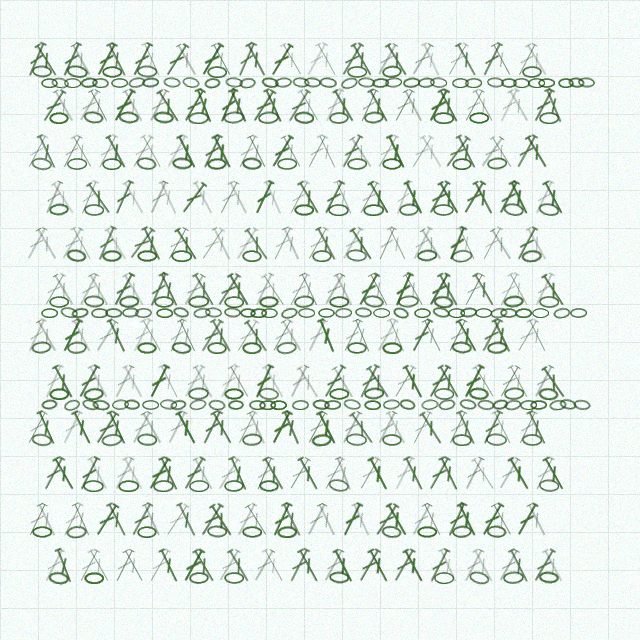chain: (468, 570, 490, 586), (66, 64, 88, 79), (538, 202, 560, 217), (83, 110, 104, 125), (136, 156, 157, 171), (503, 202, 524, 217), (66, 248, 87, 263), (363, 294, 384, 309), (328, 478, 349, 493), (451, 249, 473, 263), (101, 433, 123, 447), (31, 157, 52, 171), (521, 249, 542, 263), (433, 295, 454, 309), (171, 341, 192, 355), (276, 341, 297, 355), (83, 387, 104, 401), (258, 387, 279, 401), (538, 387, 559, 401), (31, 433, 52, 447), (311, 433, 332, 447), (66, 525, 87, 539), (381, 525, 402, 539), (48, 571, 69, 585), (223, 111, 245, 124), (118, 111, 139, 124), (153, 111, 174, 124), (258, 111, 279, 124), (346, 249, 367, 262), (188, 295, 209, 308), (398, 295, 419, 308), (503, 295, 524, 308), (31, 341, 52, 354), (451, 341, 472, 354), (188, 387, 209, 400), (468, 387, 489, 400), (346, 433, 367, 446), (486, 433, 507, 446), (486, 525, 507, 538), (503, 571, 524, 584), (538, 571, 559, 584), (340, 76, 359, 90), (280, 306, 299, 320), (81, 398, 100, 412), (32, 65, 52, 78), (137, 65, 157, 78), (382, 65, 402, 78), (294, 111, 314, 124), (364, 111, 384, 124), (172, 157, 192, 170), (242, 157, 262, 170), (487, 157, 507, 170), (49, 203, 69, 216), (399, 203, 419, 216), (417, 249, 437, 262), (84, 295, 104, 308), (119, 295, 139, 308), (294, 295, 314, 308), (67, 341, 87, 354), (487, 341, 507, 354), (364, 387, 384, 400), (504, 387, 524, 400), (137, 433, 157, 446), (242, 433, 262, 446), (539, 479, 559, 492), (207, 525, 227, 538), (452, 525, 472, 538), (329, 571, 349, 584), (188, 112, 209, 124), (433, 112, 454, 124), (328, 204, 349, 216), (363, 204, 384, 216), (433, 204, 454, 216), (171, 250, 192, 262), (392, 306, 410, 320), (63, 398, 81, 412), (83, 480, 104, 492), (118, 480, 139, 492), (153, 480, 174, 492), (102, 66, 122, 78), (207, 66, 227, 78), (347, 66, 367, 78), (522, 66, 542, 78), (49, 112, 69, 124), (329, 112, 349, 124), (469, 112, 489, 124), (539, 112, 559, 124), (67, 158, 87, 170), (102, 158, 122, 170), (207, 158, 227, 170), (277, 158, 297, 170), (347, 158, 367, 170), (382, 158, 402, 170), (452, 158, 472, 170), (84, 204, 104, 216), (294, 204, 314, 216), (102, 250, 122, 262), (137, 250, 157, 262), (242, 250, 262, 262), (312, 250, 332, 262), (49, 296, 69, 308), (154, 296, 174, 308), (224, 296, 244, 308), (259, 296, 279, 308), (329, 296, 349, 308), (539, 296, 559, 308), (137, 342, 157, 354), (207, 342, 227, 354), (242, 342, 262, 354), (347, 342, 367, 354), (382, 342, 402, 354), (49, 388, 69, 400), (224, 388, 244, 400), (329, 388, 349, 400), (434, 388, 454, 400), (382, 434, 402, 446), (452, 434, 472, 446), (522, 434, 542, 446), (189, 480, 209, 492), (224, 480, 244, 492), (259, 480, 279, 492), (32, 526, 52, 538), (137, 526, 157, 538), (242, 526, 262, 538), (277, 526, 297, 538), (417, 526, 437, 538), (84, 572, 104, 584), (189, 572, 209, 584), (224, 572, 244, 584), (434, 572, 454, 584), (128, 76, 146, 89), (182, 76, 200, 89), (261, 76, 279, 89), (60, 306, 78, 319), (172, 306, 190, 319), (432, 306, 450, 319), (189, 398, 207, 411), (343, 398, 361, 411), (438, 398, 456, 411), (459, 398, 477, 411), (559, 398, 577, 411), (399, 398, 416, 411), (492, 398, 509, 411), (51, 77, 69, 89), (71, 307, 89, 319), (193, 307, 211, 319), (490, 307, 508, 319), (553, 307, 571, 319), (92, 399, 110, 411), (208, 399, 226, 411), (477, 399, 495, 411), (504, 399, 522, 411), (549, 399, 567, 411), (573, 399, 591, 411), (204, 77, 221, 89), (239, 77, 256, 89), (170, 399, 187, 411), (80, 77, 98, 88), (163, 77, 181, 88), (225, 77, 243, 88), (292, 77, 310, 88), (319, 77, 337, 88), (312, 399, 330, 410), (421, 399, 439, 410), (142, 77, 159, 88), (275, 77, 292, 88), (304, 77, 321, 88), (358, 77, 375, 88), (385, 77, 402, 88), (403, 77, 420, 88), (418, 77, 435, 88), (430, 77, 447, 88), (487, 77, 504, 88), (568, 77, 585, 88), (578, 77, 595, 88), (122, 307, 139, 318), (205, 307, 222, 318), (224, 307, 241, 318), (355, 307, 372, 318), (460, 307, 477, 318), (41, 399, 58, 410), (112, 399, 129, 410), (160, 399, 177, 410), (383, 399, 400, 410), (124, 399, 140, 410), (41, 78, 58, 88), (64, 78, 81, 88), (92, 78, 109, 88), (111, 78, 128, 88), (372, 78, 389, 88), (452, 78, 469, 88), (465, 78, 482, 88), (513, 78, 530, 88), (528, 78, 545, 88), (538, 78, 555, 88), (41, 308, 58, 318), (91, 308, 108, 318), (105, 308, 122, 318), (135, 308, 152, 318), (156, 308, 173, 318), (250, 308, 267, 318), (261, 308, 278, 318), (298, 308, 315, 318), (318, 308, 335, 318), (335, 308, 352, 318), (373, 308, 390, 318), (414, 308, 431, 318), (448, 308, 465, 318), (475, 308, 492, 318), (500, 308, 517, 318), (515, 308, 532, 318), (532, 308, 549, 318), (570, 308, 587, 318), (142, 400, 159, 410), (249, 400, 266, 410), (259, 400, 276, 410), (270, 400, 287, 410), (292, 400, 309, 410), (324, 400, 341, 410), (364, 400, 381, 410), (520, 400, 537, 410), (530, 400, 547, 410), (501, 78, 517, 88), (558, 78, 574, 88), (240, 308, 256, 318), (228, 400, 244, 410)
double: (178, 180, 209, 216), (126, 226, 157, 261), (442, 134, 472, 170), (477, 134, 507, 170), (84, 180, 114, 216), (197, 226, 227, 262), (242, 226, 272, 262), (539, 364, 569, 400), (347, 410, 377, 446), (32, 42, 61, 78), (162, 42, 191, 78), (267, 42, 296, 78), (39, 88, 68, 124), (154, 88, 183, 124), (249, 88, 278, 124), (284, 88, 313, 124), (347, 134, 376, 170), (407, 134, 436, 170), (487, 134, 516, 170), (49, 180, 78, 216), (102, 226, 131, 262), (172, 226, 201, 262), (232, 226, 261, 262), (347, 226, 376, 262), (417, 226, 446, 262), (487, 226, 516, 262), (214, 272, 243, 308), (259, 272, 288, 308), (539, 272, 568, 308), (92, 318, 121, 354), (197, 318, 226, 354), (232, 318, 261, 354), (242, 318, 271, 354), (294, 364, 323, 400), (329, 364, 358, 400), (364, 364, 393, 400), (92, 410, 121, 446), (417, 410, 446, 446), (214, 456, 243, 492), (469, 456, 498, 492), (92, 502, 121, 538), (162, 502, 191, 538), (197, 502, 226, 538), (207, 502, 236, 538), (242, 502, 271, 538), (372, 502, 401, 538), (173, 41, 201, 78), (198, 41, 226, 78), (278, 41, 306, 78), (338, 41, 366, 78), (348, 41, 376, 78), (373, 41, 401, 78), (383, 41, 411, 78), (408, 41, 436, 78), (443, 41, 471, 78), (523, 41, 551, 78), (50, 87, 78, 124), (75, 87, 103, 124), (110, 87, 138, 124), (180, 87, 208, 124), (295, 87, 323, 124), (330, 87, 358, 124), (505, 87, 533, 124), (68, 133, 96, 170), (128, 133, 156, 170), (268, 133, 296, 170), (373, 133, 401, 170), (418, 133, 446, 170), (523, 133, 551, 170), (120, 179, 148, 216), (295, 179, 323, 216), (365, 179, 393, 216), (425, 179, 453, 216), (435, 179, 463, 216), (460, 179, 488, 216), (33, 225, 61, 262), (58, 225, 86, 262), (163, 225, 191, 262), (303, 225, 331, 262), (338, 225, 366, 262), (523, 225, 551, 262), (40, 271, 68, 308), (50, 271, 78, 308), (85, 271, 113, 308), (120, 271, 148, 308), (190, 271, 218, 308), (225, 271, 253, 308), (320, 271, 348, 308), (425, 271, 453, 308), (470, 271, 498, 308), (33, 317, 61, 354), (278, 317, 306, 354), (373, 317, 401, 354), (453, 317, 481, 354), (513, 317, 541, 354), (180, 363, 208, 400), (225, 363, 253, 400), (260, 363, 288, 400), (320, 363, 348, 400), (390, 363, 418, 400), (425, 363, 453, 400), (435, 363, 463, 400), (470, 363, 498, 400), (495, 363, 523, 400), (138, 409, 166, 446), (208, 409, 236, 446), (50, 455, 78, 492), (145, 455, 173, 492), (180, 455, 208, 492), (260, 455, 288, 492), (285, 455, 313, 492), (355, 455, 383, 492), (425, 455, 453, 492), (495, 455, 523, 492), (505, 455, 533, 492), (540, 455, 568, 492), (383, 501, 411, 538), (478, 501, 506, 538), (488, 501, 516, 538), (513, 501, 541, 538), (85, 547, 113, 584), (145, 547, 173, 584), (190, 547, 218, 584), (215, 547, 243, 584), (225, 547, 253, 584), (250, 547, 278, 584), (355, 547, 383, 584), (390, 547, 418, 584), (530, 547, 558, 584), (180, 272, 208, 308), (68, 41, 95, 78), (93, 41, 120, 78), (208, 41, 235, 78), (243, 41, 270, 78), (303, 41, 330, 78), (313, 41, 340, 78), (453, 41, 480, 78), (488, 41, 515, 78), (513, 41, 540, 78), (85, 87, 112, 124), (120, 87, 147, 124), (145, 87, 172, 124), (365, 87, 392, 124), (390, 87, 417, 124), (400, 87, 427, 124), (425, 87, 452, 124), (435, 87, 462, 124), (460, 87, 487, 124), (470, 87, 497, 124), (530, 87, 557, 124), (23, 133, 50, 170), (58, 133, 85, 170), (103, 133, 130, 170), (138, 133, 165, 170), (163, 133, 190, 170), (278, 133, 305, 170), (303, 133, 330, 170), (338, 133, 365, 170), (453, 133, 480, 170), (513, 133, 540, 170), (190, 179, 217, 216), (215, 179, 242, 216), (225, 179, 252, 216), (285, 179, 312, 216), (320, 179, 347, 216), (355, 179, 382, 216), (470, 179, 497, 216), (495, 179, 522, 216), (540, 179, 567, 216), (23, 225, 50, 262), (68, 225, 95, 262), (313, 225, 340, 262), (478, 225, 505, 262), (513, 225, 540, 262), (75, 271, 102, 308), (110, 271, 137, 308), (285, 271, 312, 308), (355, 271, 382, 308), (365, 271, 392, 308), (400, 271, 427, 308), (435, 271, 462, 308), (460, 271, 487, 308), (495, 271, 522, 308), (505, 271, 532, 308), (138, 317, 165, 354), (208, 317, 235, 354), (268, 317, 295, 354), (408, 317, 435, 354), (478, 317, 505, 354), (50, 363, 77, 400), (75, 363, 102, 400), (85, 363, 112, 400), (120, 363, 147, 400), (190, 363, 217, 400), (400, 363, 427, 400), (460, 363, 487, 400), (505, 363, 532, 400), (530, 363, 557, 400), (23, 409, 50, 446), (128, 409, 155, 446), (173, 409, 200, 446), (233, 409, 260, 446), (268, 409, 295, 446), (303, 409, 330, 446), (338, 409, 365, 446), (383, 409, 410, 446), (408, 409, 435, 446), (40, 455, 67, 492), (85, 455, 112, 492), (120, 455, 147, 492), (190, 455, 217, 492), (295, 455, 322, 492), (320, 455, 347, 492), (365, 455, 392, 492), (128, 501, 155, 538), (233, 501, 260, 538), (303, 501, 330, 538), (408, 501, 435, 538), (75, 547, 102, 584), (120, 547, 147, 584), (180, 547, 207, 584), (260, 547, 287, 584), (295, 547, 322, 584), (320, 547, 347, 584), (330, 547, 357, 584), (365, 547, 392, 584), (400, 547, 427, 584), (460, 547, 487, 584), (470, 547, 497, 584), (495, 547, 522, 584), (540, 547, 567, 584), (104, 41, 130, 78), (129, 41, 155, 78), (479, 41, 505, 78), (321, 87, 347, 124), (496, 87, 522, 124), (34, 133, 60, 170), (94, 133, 120, 170), (174, 133, 200, 170), (199, 133, 225, 170), (209, 133, 235, 170), (234, 133, 260, 170), (244, 133, 270, 170), (314, 133, 340, 170), (251, 179, 277, 216), (401, 179, 427, 216), (506, 179, 532, 216), (531, 179, 557, 216), (139, 225, 165, 262), (209, 225, 235, 262), (269, 225, 295, 262), (384, 225, 410, 262), (409, 225, 435, 262), (156, 271, 182, 308), (251, 271, 277, 308), (296, 271, 322, 308), (331, 271, 357, 308), (531, 271, 557, 308), (59, 317, 85, 354), (69, 317, 95, 354), (104, 317, 130, 354), (129, 317, 155, 354), (174, 317, 200, 354), (304, 317, 330, 354), (339, 317, 365, 354), (419, 317, 445, 354), (444, 317, 470, 354), (489, 317, 515, 354), (524, 317, 550, 354), (111, 363, 137, 400), (146, 363, 172, 400), (156, 363, 182, 400), (216, 363, 242, 400), (286, 363, 312, 400), (356, 363, 382, 400), (59, 409, 85, 446), (69, 409, 95, 446), (104, 409, 130, 446), (164, 409, 190, 446), (199, 409, 225, 446), (244, 409, 270, 446), (314, 409, 340, 446), (374, 409, 400, 446), (444, 409, 470, 446), (479, 409, 505, 446), (489, 409, 515, 446), (514, 409, 540, 446), (524, 409, 550, 446), (76, 455, 102, 492), (111, 455, 137, 492), (156, 455, 182, 492), (391, 455, 417, 492), (401, 455, 427, 492), (436, 455, 462, 492), (461, 455, 487, 492), (531, 455, 557, 492), (24, 501, 50, 538), (34, 501, 60, 538), (59, 501, 85, 538), (104, 501, 130, 538), (139, 501, 165, 538), (174, 501, 200, 538), (279, 501, 305, 538), (314, 501, 340, 538), (339, 501, 365, 538), (419, 501, 445, 538), (454, 501, 480, 538), (524, 501, 550, 538), (41, 547, 67, 584), (111, 547, 137, 584), (156, 547, 182, 584), (286, 547, 312, 584), (426, 547, 452, 584), (506, 547, 532, 584), (24, 41, 49, 78), (59, 41, 84, 78), (139, 41, 164, 78), (234, 41, 259, 78), (419, 41, 444, 78), (216, 87, 241, 124), (226, 87, 251, 124), (261, 87, 286, 124), (356, 87, 381, 124), (384, 133, 409, 170), (41, 179, 66, 216), (76, 179, 101, 216), (111, 179, 136, 216), (146, 179, 171, 216), (156, 179, 181, 216), (261, 179, 286, 216), (331, 179, 356, 216), (94, 225, 119, 262), (279, 225, 304, 262), (374, 225, 399, 262), (454, 225, 479, 262), (146, 271, 171, 308), (391, 271, 416, 308), (24, 317, 49, 354), (384, 317, 409, 354), (41, 363, 66, 400), (251, 363, 276, 400), (34, 409, 59, 446), (279, 409, 304, 446), (454, 409, 479, 446), (226, 455, 251, 492), (69, 501, 94, 538), (269, 501, 294, 538), (349, 501, 374, 538), (444, 501, 469, 538), (436, 547, 461, 584), (192, 87, 216, 124), (542, 87, 566, 124), (445, 225, 469, 262), (165, 317, 189, 354), (315, 317, 339, 354), (350, 317, 374, 354), (252, 455, 276, 492), (332, 455, 356, 492), (52, 547, 76, 584), (392, 179, 415, 216)
